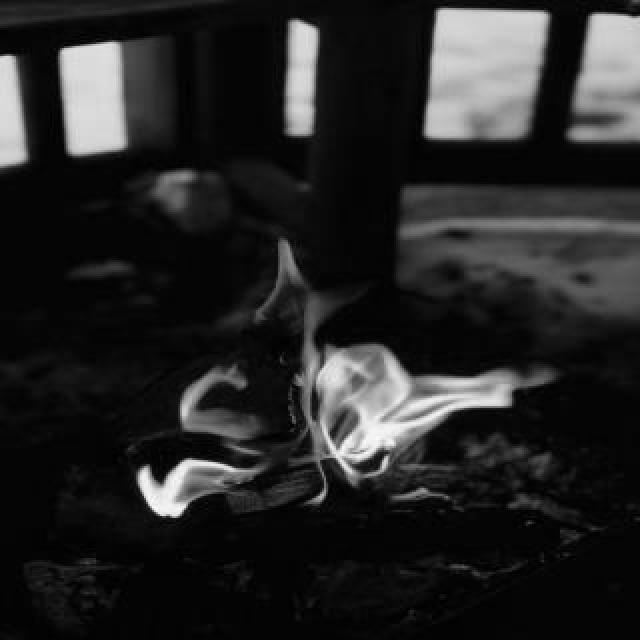Fire: (126, 228, 526, 514)
